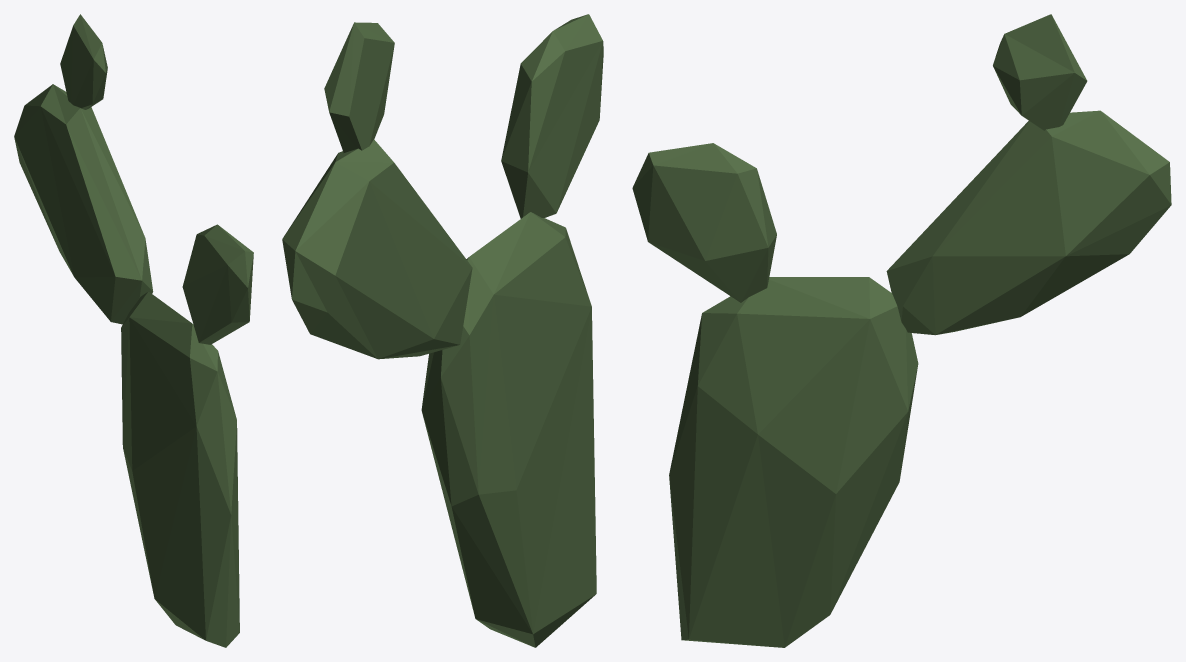
Rendered from Cactus_5.lod2.glb.
3 renders of one model, left to right at view 1: azimuth 30°, elevation 25°; view 2: azimuth 150°, elevation 25°; view 3: azimuth 270°, elevation 25°, orthographic. The views are drawn at different scales.
Parts seen in each view (by area): view 1: Cactus_5; view 2: Cactus_5; view 3: Cactus_5.
Part boxes in pixels (x1,y1,x2,y2): Cactus_5: (14,14,253,647); Cactus_5: (282,14,603,647); Cactus_5: (632,14,1171,647).
Bounding box in the file's own units: 0.1105 × 0.8798 × 0.6763.
